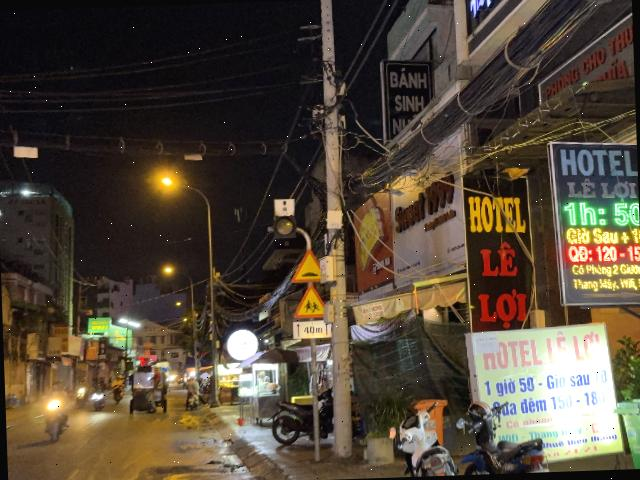duong-co-go-giam-toc: (291, 248, 320, 282)
tre-em-qua-duong: (293, 284, 326, 319)
